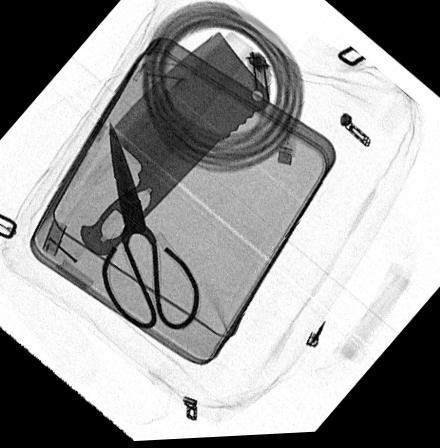Knife: (81, 34, 271, 259)
Scissors: (100, 120, 202, 333)
